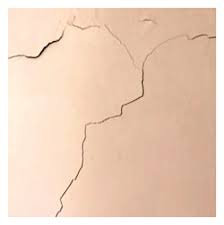crack: (54, 69, 144, 215), (65, 13, 136, 65), (140, 30, 215, 68), (7, 27, 62, 59)
